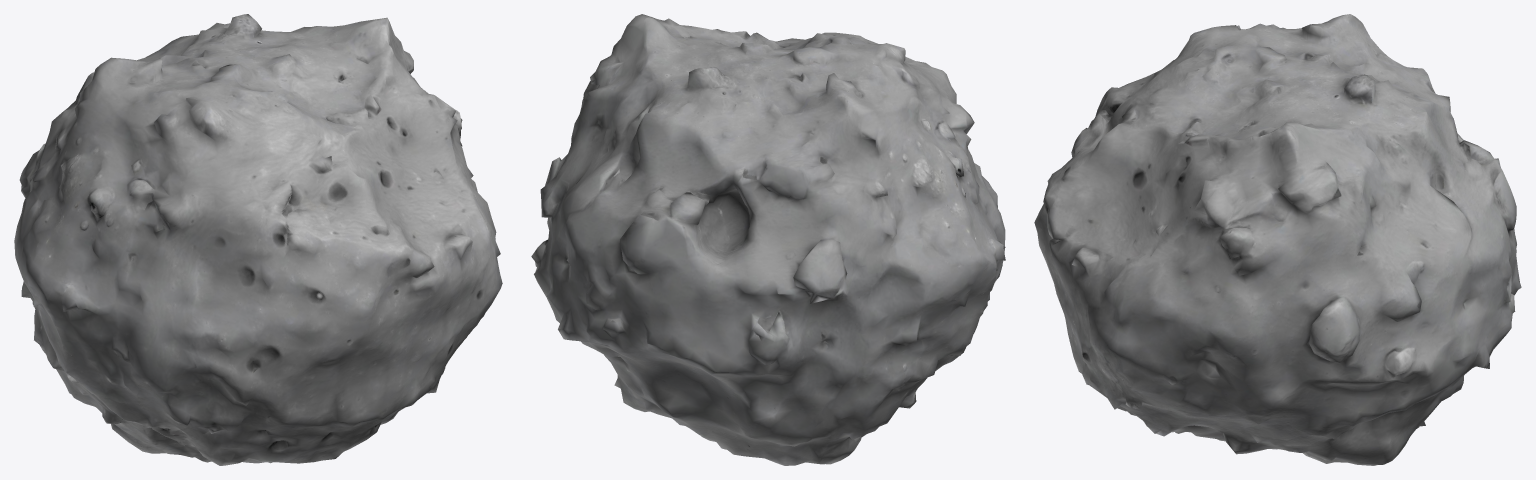
Rendered from Asteroid.glb.
3 renders of one model, left to right at view 1: azimuth 30°, elevation 25°; view 2: azimuth 150°, elevation 25°; view 3: azimuth 270°, elevation 25°, orthographic. The views are drawn at different scales.
Visible parts, largest first — view 1: Mesh1; view 2: Mesh1; view 3: Mesh1.
Part boxes in pixels (left/top/right/bottom): Mesh1: left=14, top=14, right=502, bottom=465; Mesh1: left=531, top=14, right=1005, bottom=465; Mesh1: left=1034, top=14, right=1521, bottom=465.
Size of the model in its own units: 1.99 by 1.74 by 1.97.
1 material, 1 textured.
